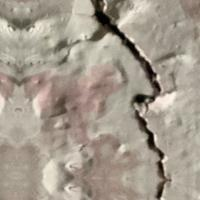crack: (82, 0, 187, 199)
